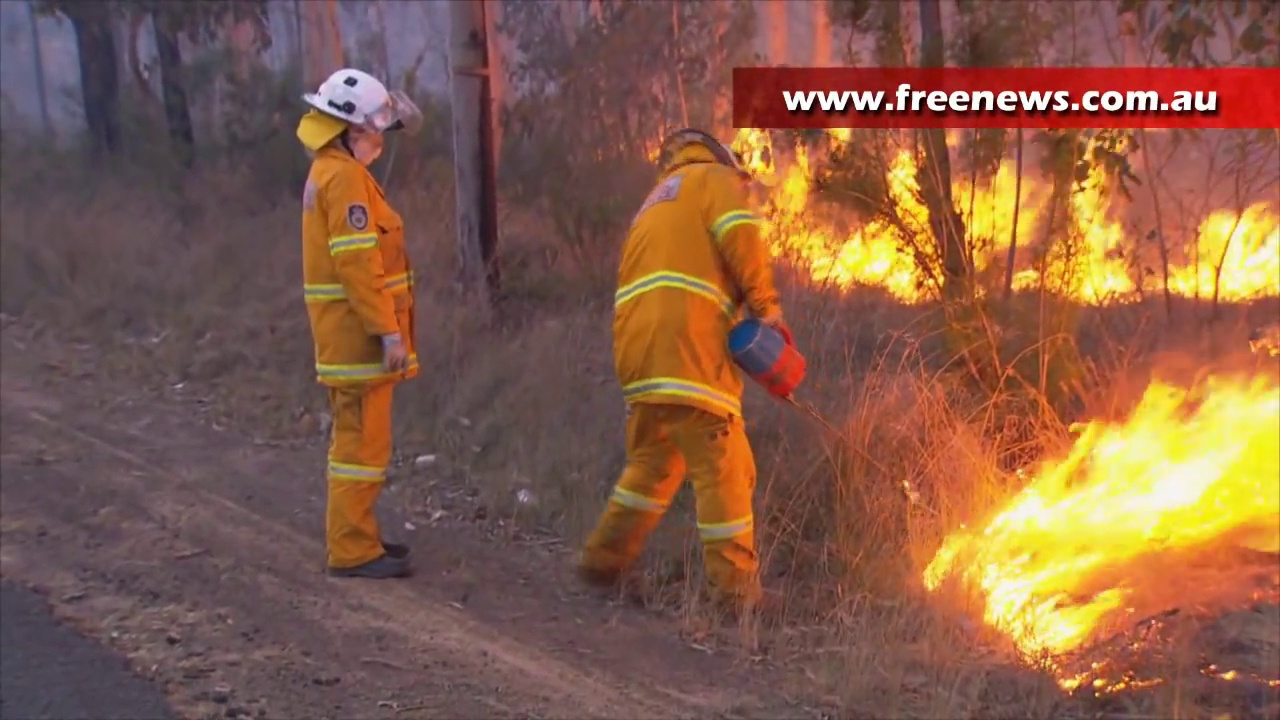fire: (927, 373, 1276, 666), (768, 156, 933, 302), (1053, 160, 1139, 302), (1171, 202, 1280, 306), (961, 169, 1033, 254), (731, 131, 772, 174)
